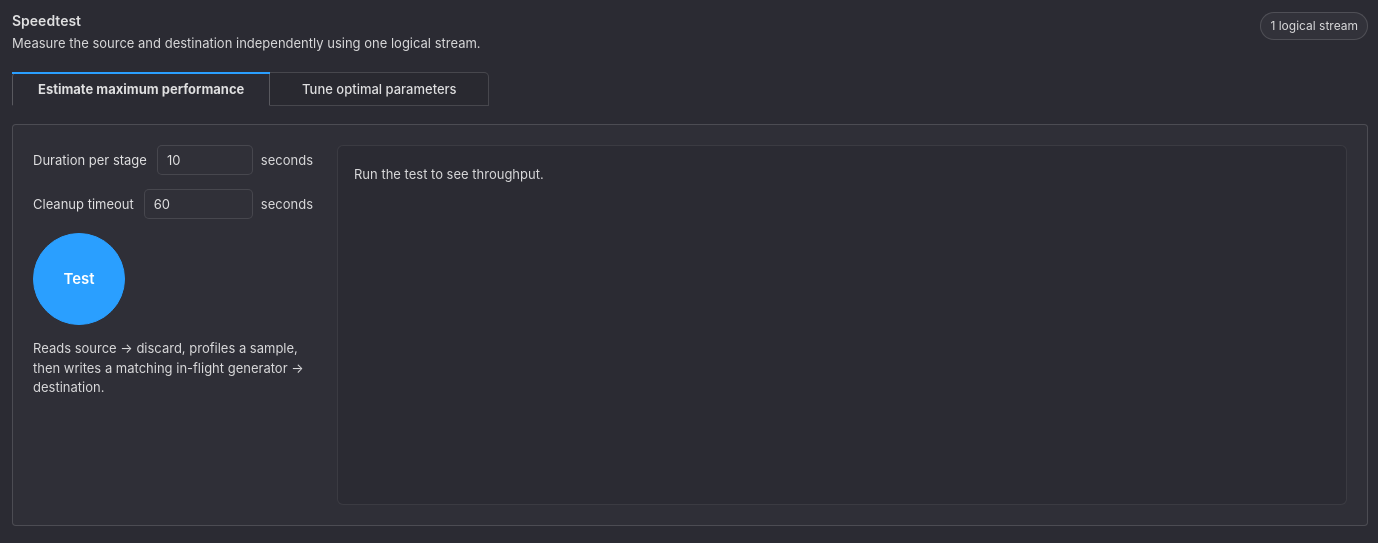
Test: SpeedtestWorkspace › starts on maximum-performance estimation and gives immediate stable pending feedback
Click the button "Test".
click(79, 279)  # box [33,233,125,325]
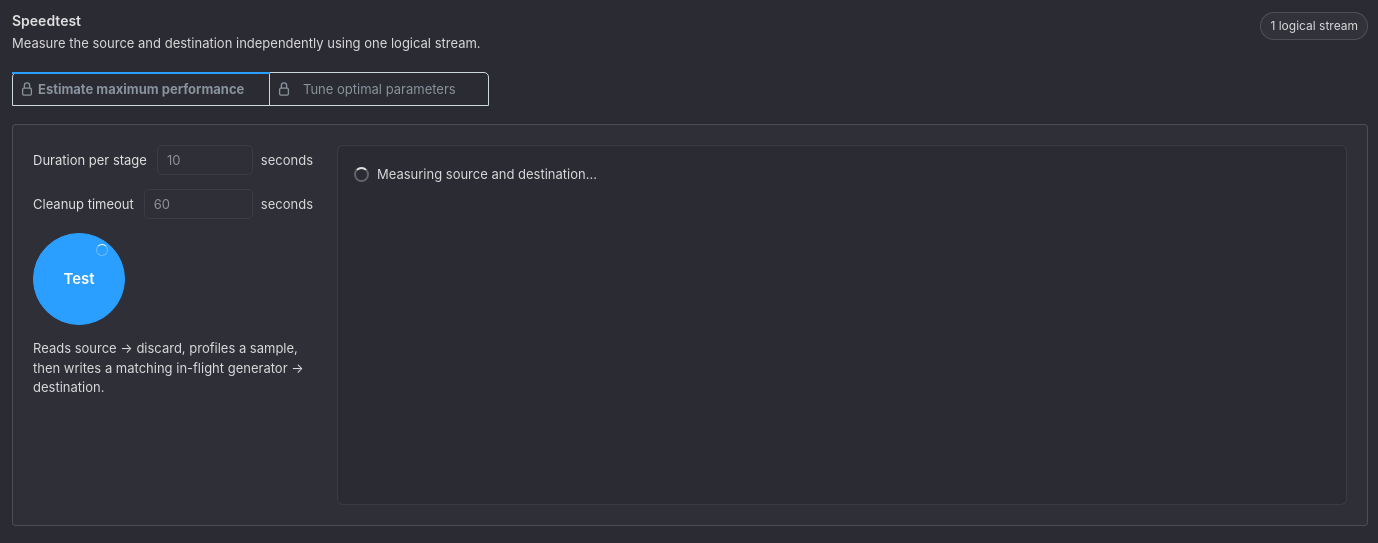
Expected: the text "Measuring source and destination…" is shown, [354,166,597,182]
Click the button "Test".
click(79, 279)  # box [33,233,125,325]
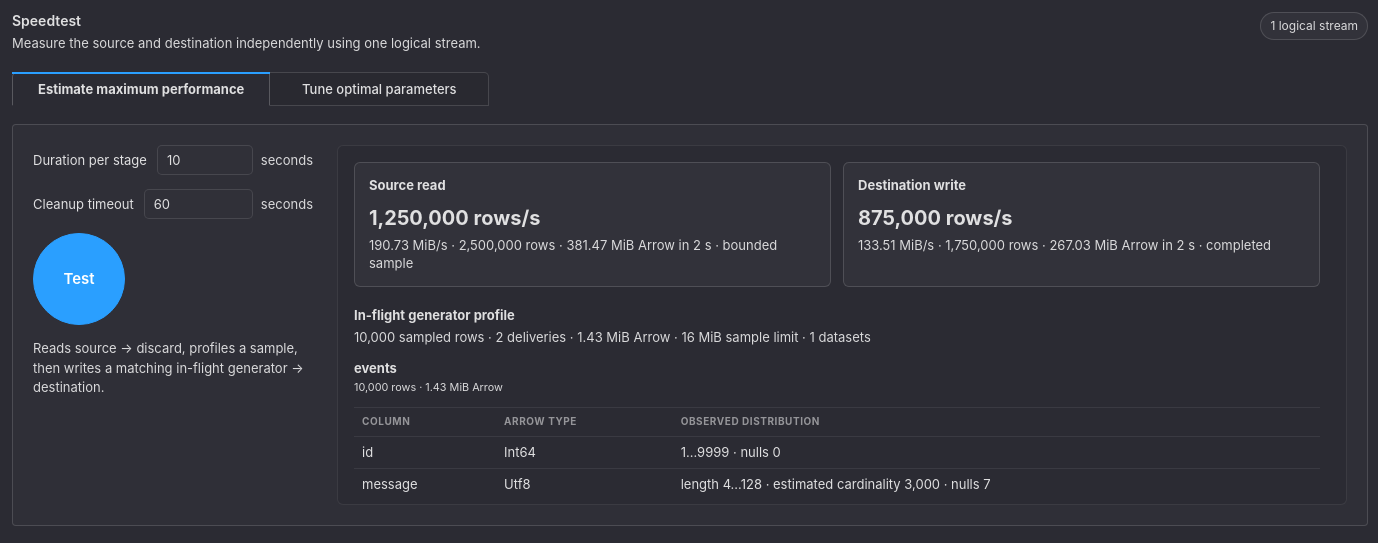
Expected: the text "1,250,000 rows/s" is shown, [369,206,540,230]
Expected: the text "875,000 rows/s" is shown, [858,206,1012,230]
Expected: the text "message" is shown, [354,469,496,501]
